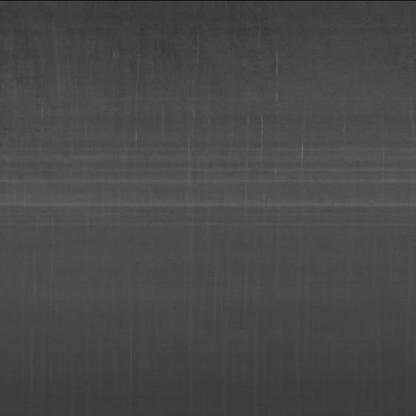waist_folding: (24, 100, 416, 234)
